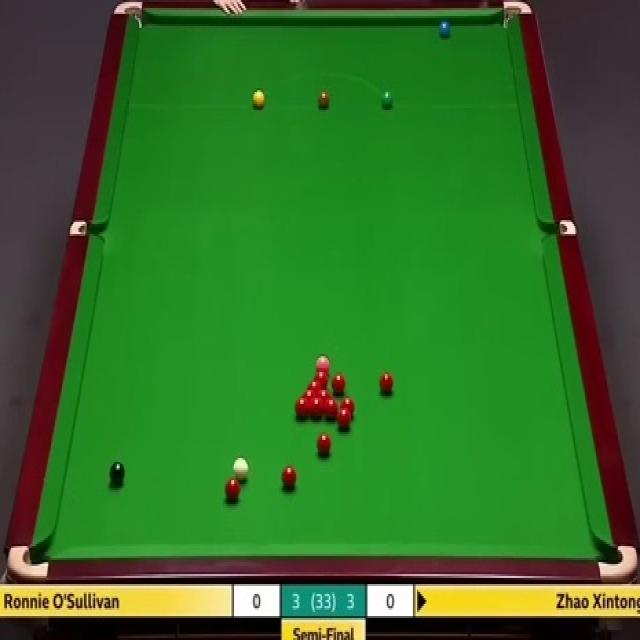pocket: (597, 543, 639, 585), (5, 545, 51, 583), (500, 0, 532, 32), (112, 0, 147, 29), (68, 218, 106, 236), (541, 220, 576, 235)
